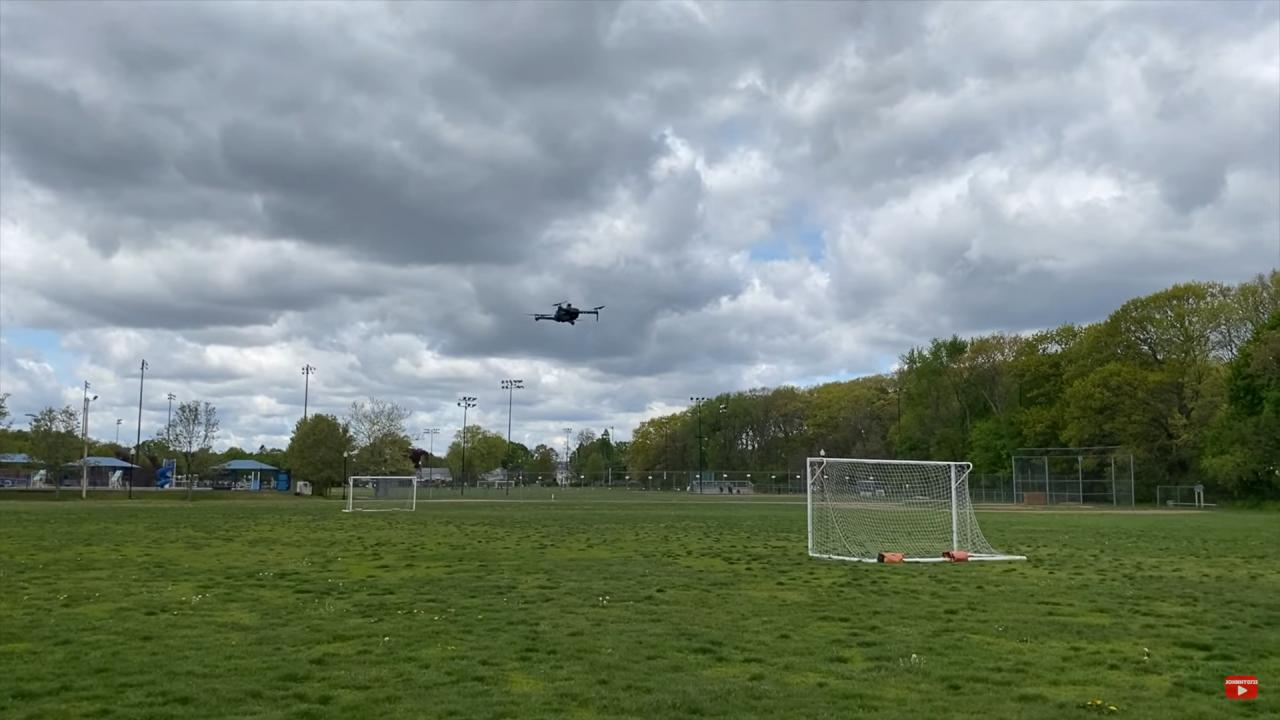Drone: (516, 292, 614, 334)
